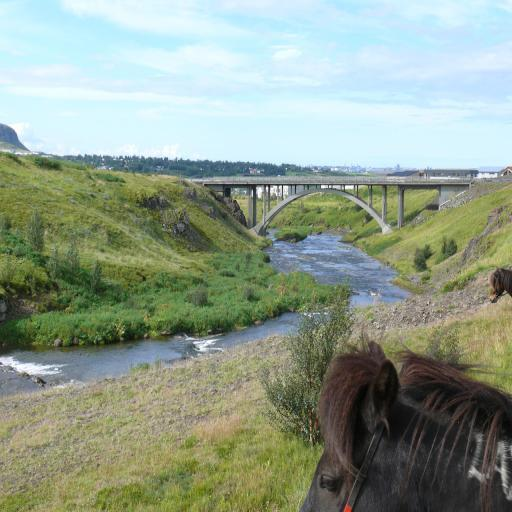horse: (295, 334, 512, 512), (488, 262, 512, 302)
